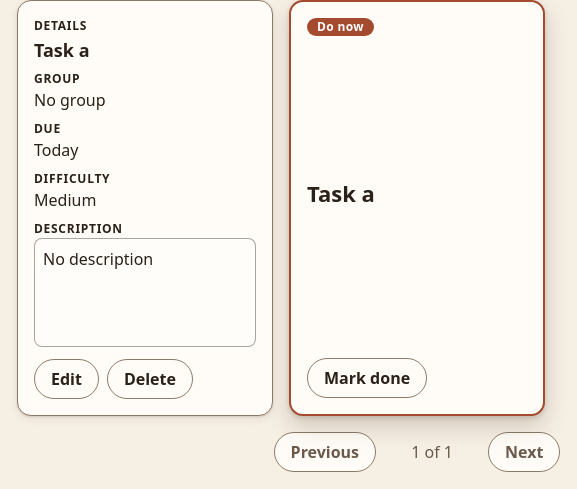
asking before a task is marked done › asks first, with the answers in the card, and sends nothing yet
Click the button "Mark done".
click(367, 378)  # box [307,358,427,398]
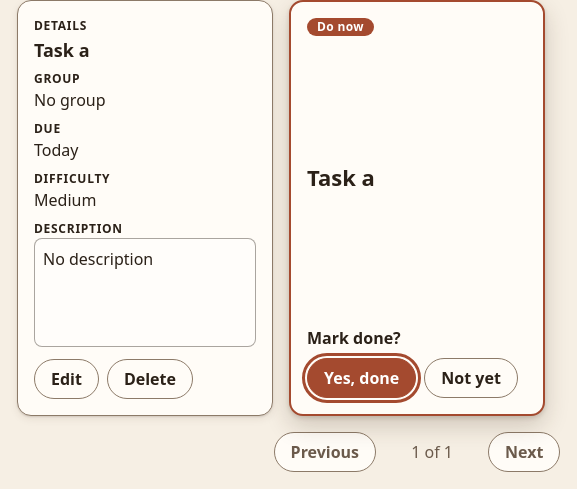
expect the text "Mark done?" is shown: met, box [307,327,401,349]
